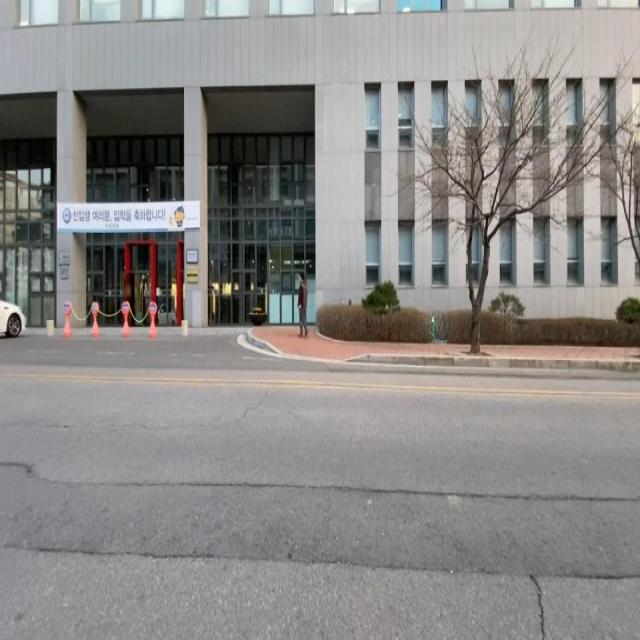sidewalk: (251, 327, 471, 360), (481, 345, 640, 360)
